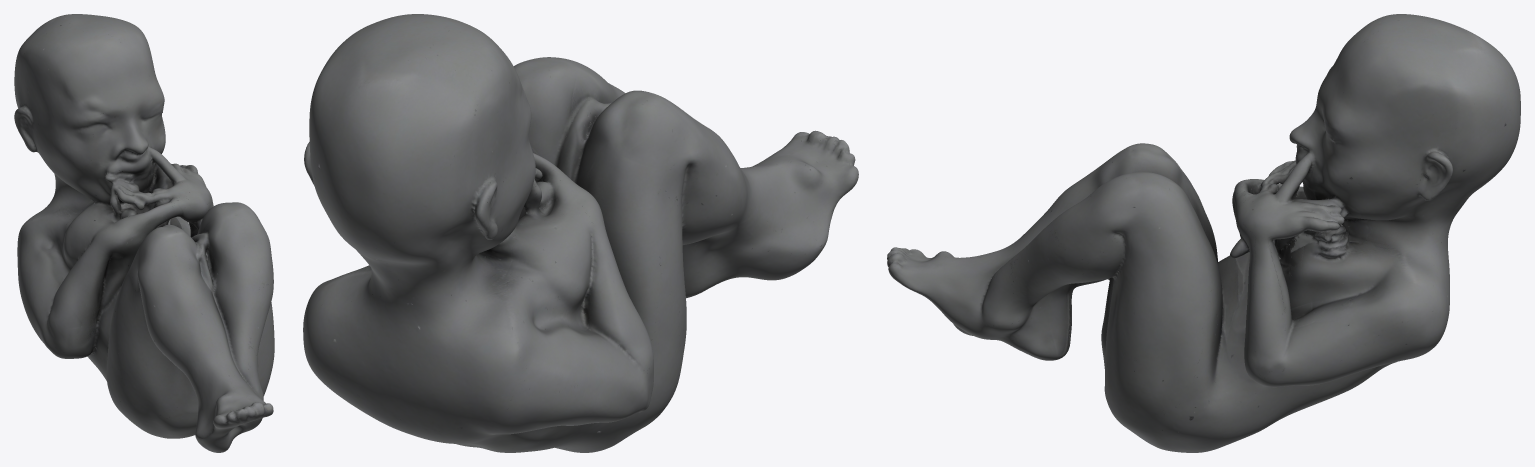
File: hayko-infant.glb
3 renders of one model, left to right at view 1: azimuth 30°, elevation 25°; view 2: azimuth 150°, elevation 25°; view 3: azimuth 270°, elevation 25°, orthographic. The views are drawn at different scales.
Size of the model in its own units: 0.8228 by 1.43 by 2.
Materials: 1 (1 with a texture image).
